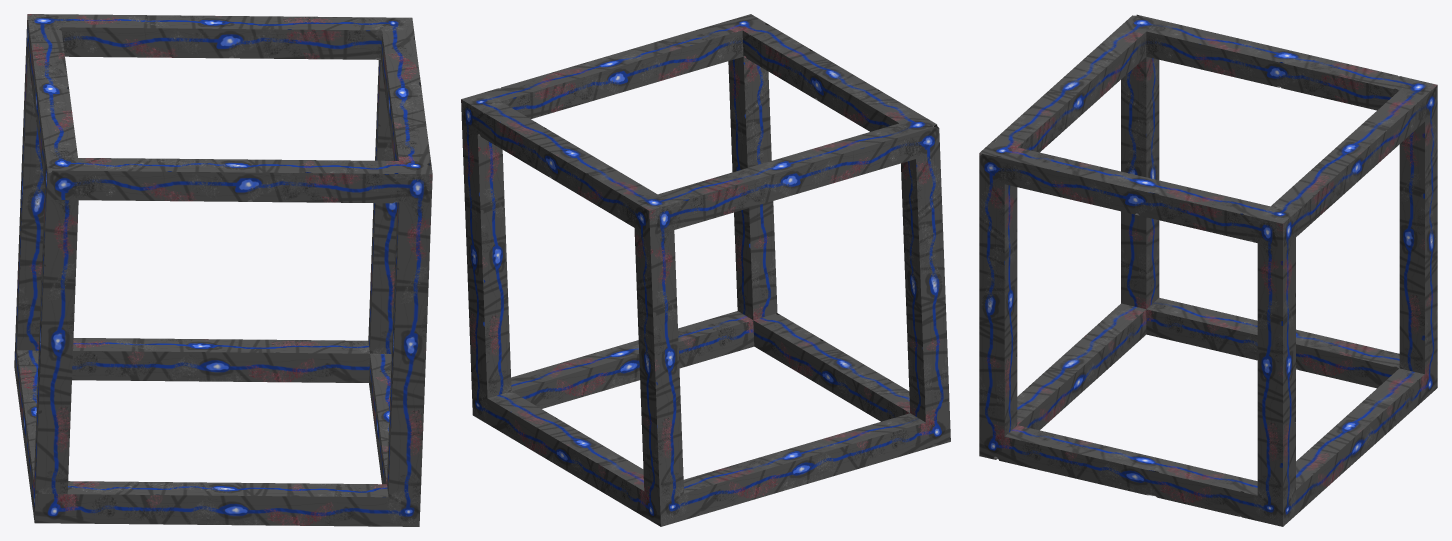
File: Geo_Impossible_CubeTextured.fbx
3 views of the same model, side by side, from view 1: azimuth 30°, elevation 25°; view 2: azimuth 150°, elevation 25°; view 3: azimuth 270°, elevation 25° (orthographic). The views are drawn at different scales.
Parts seen in each view (by area): view 1: pCube1; view 2: pCube1; view 3: pCube1.
Boxes of the visible parts, box(x1,y1,x2,y2) form: pCube1: box(14, 14, 432, 526); pCube1: box(461, 14, 950, 526); pCube1: box(979, 14, 1437, 526).
Size of the model in its own units: 16.6 by 12.63 by 16.14.
1 material, 1 textured.
